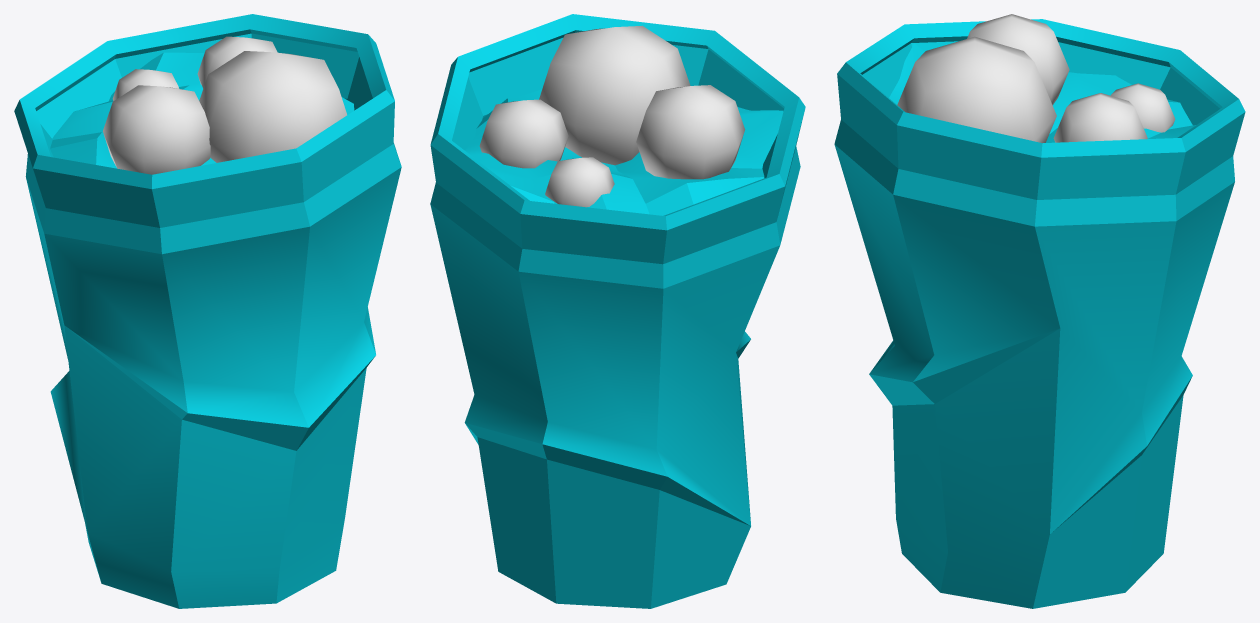
The model's file is SM_Drink_Eye.fbx.
The picture shows the model from 3 angles, left to right: view 1: azimuth 30°, elevation 25°; view 2: azimuth 150°, elevation 25°; view 3: azimuth 270°, elevation 25°; orthographic projection. The views are drawn at different scales.
Visible parts, largest first — view 1: SM_Glass, Cube.014, SM_Glass.002; view 2: SM_Glass, Cube.014, SM_Glass.002; view 3: SM_Glass, Cube.014, SM_Glass.002.
Boxes of the visible parts, <box> form: SM_Glass: <box>14,14,401,608</box>; Cube.014: <box>103,36,346,174</box>; SM_Glass.002: <box>50,52,354,168</box>; SM_Glass: <box>430,14,805,608</box>; Cube.014: <box>479,25,745,207</box>; SM_Glass.002: <box>464,89,783,215</box>; SM_Glass: <box>834,19,1245,608</box>; Cube.014: <box>897,14,1175,143</box>; SM_Glass.002: <box>889,43,1195,142</box>.
Bounding box in the file's own units: 16.76 × 23.85 × 16.81.
